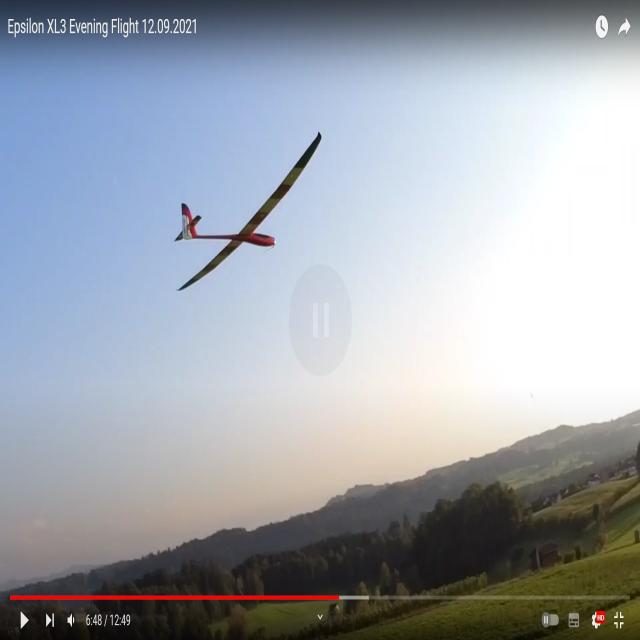iha: (172, 136, 324, 294)
